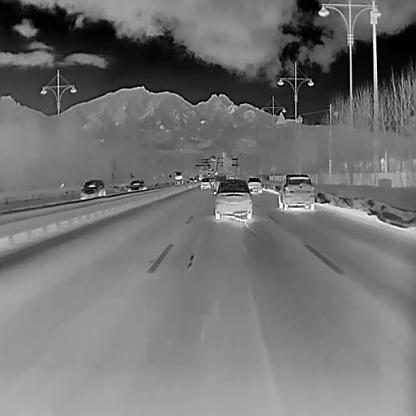car: (213, 179, 252, 219), (277, 173, 314, 210), (78, 177, 106, 198), (126, 179, 147, 191), (247, 177, 261, 194), (213, 172, 226, 188), (174, 170, 185, 185), (200, 176, 211, 188), (189, 176, 194, 182), (195, 175, 198, 183), (207, 172, 210, 175), (211, 169, 214, 172)
